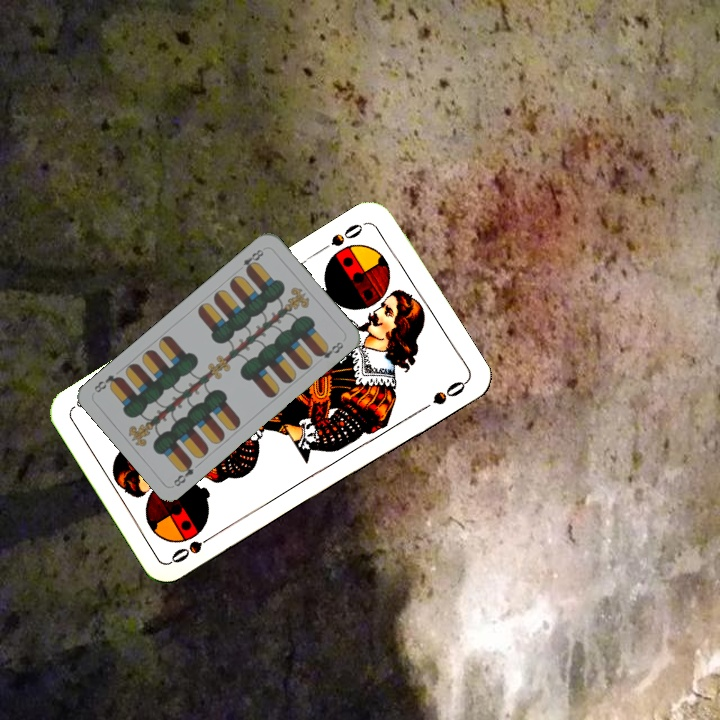E8: (169, 456, 197, 489), (239, 244, 268, 275)
SO: (166, 528, 221, 566), (326, 218, 369, 250)
